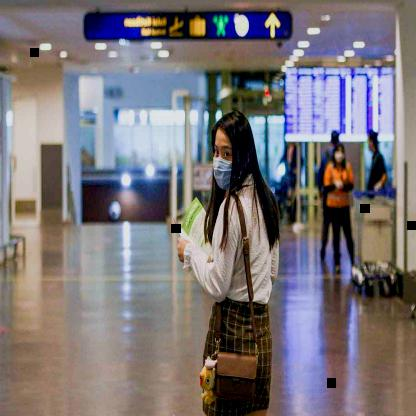mask: (209, 106, 258, 195), (332, 139, 349, 167)
